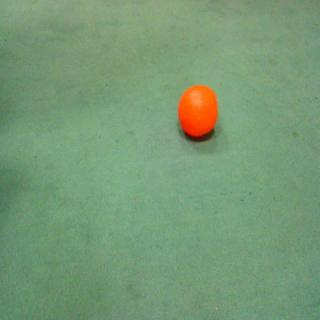orange: (176, 81, 222, 145)
